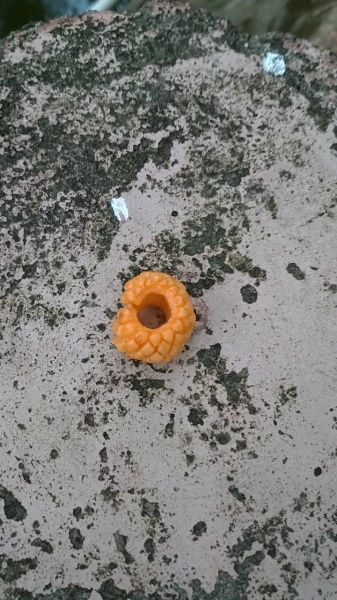eggs: (104, 264, 199, 366)
